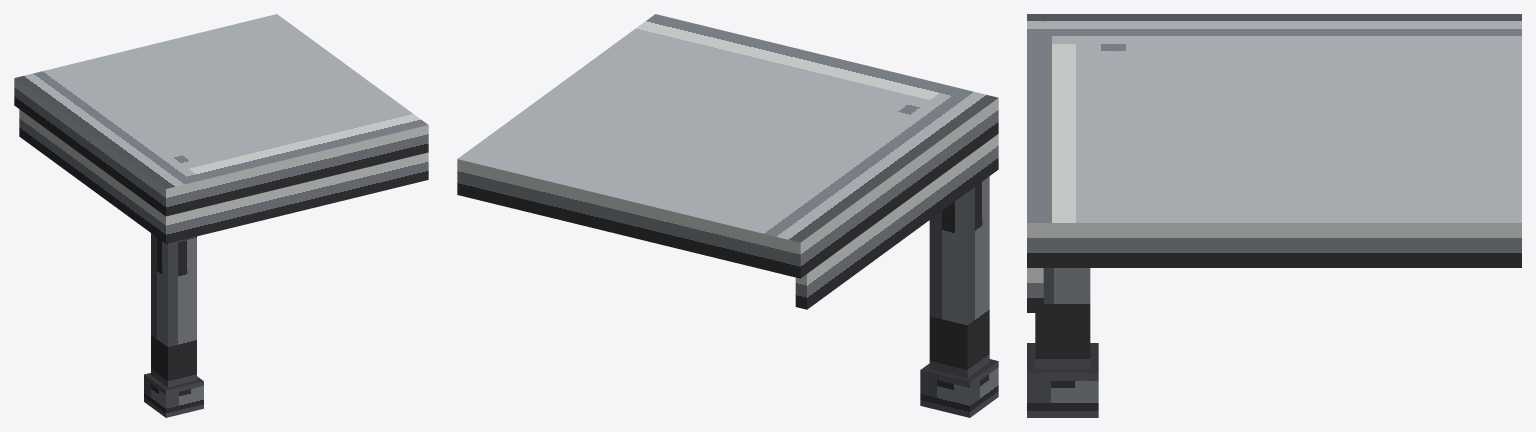
Rendered from reinforced_table_corner_1leg.glb.
3 views of the same model, side by side, from view 1: azimuth 30°, elevation 25°; view 2: azimuth 150°, elevation 25°; view 3: azimuth 270°, elevation 25° (orthographic). The views are drawn at different scales.
Parts seen in each view (by area): view 1: reinforced_table_corner_1leg; view 2: reinforced_table_corner_1leg; view 3: reinforced_table_corner_1leg.
Boxes of the visible parts, left/top/right/bottom form: reinforced_table_corner_1leg: left=14, top=14, right=428, bottom=417; reinforced_table_corner_1leg: left=457, top=14, right=998, bottom=417; reinforced_table_corner_1leg: left=1027, top=14, right=1521, bottom=417.
Size of the model in its own units: 0.9 by 0.75 by 0.9.
1 material, 1 textured.
